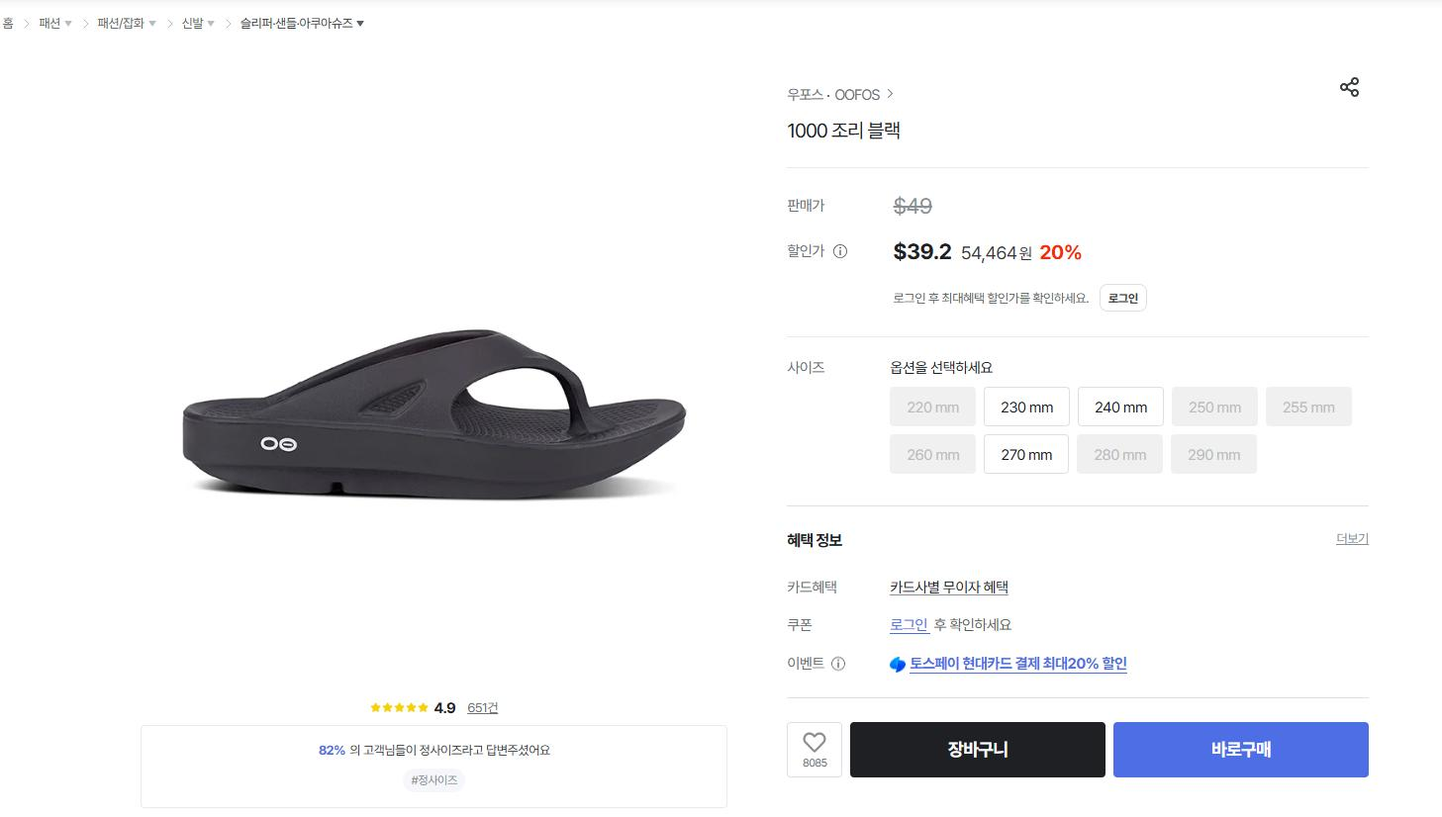button: (851, 721, 1101, 775), (1116, 721, 1363, 775), (898, 650, 1143, 676), (1169, 389, 1258, 428), (1264, 389, 1351, 427), (1170, 431, 1256, 469), (1080, 389, 1164, 427), (981, 436, 1070, 471), (986, 388, 1070, 425), (783, 723, 842, 775), (889, 389, 974, 424), (1075, 439, 1160, 474), (888, 439, 980, 471), (1334, 72, 1374, 108), (842, 82, 904, 101), (1102, 284, 1148, 307), (458, 697, 504, 717), (1330, 529, 1373, 545), (892, 614, 923, 634)
checkbox: (245, 12, 367, 28), (95, 15, 161, 35), (178, 14, 218, 33), (38, 12, 73, 27)
